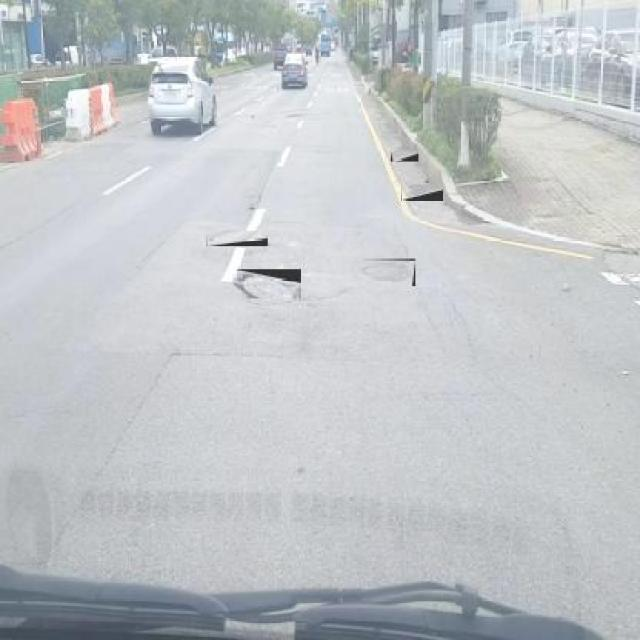Manhole: (234, 270, 300, 298), (360, 258, 416, 286), (206, 232, 268, 247), (400, 184, 443, 201), (391, 150, 418, 162)
Pothole: (247, 206, 256, 210)
